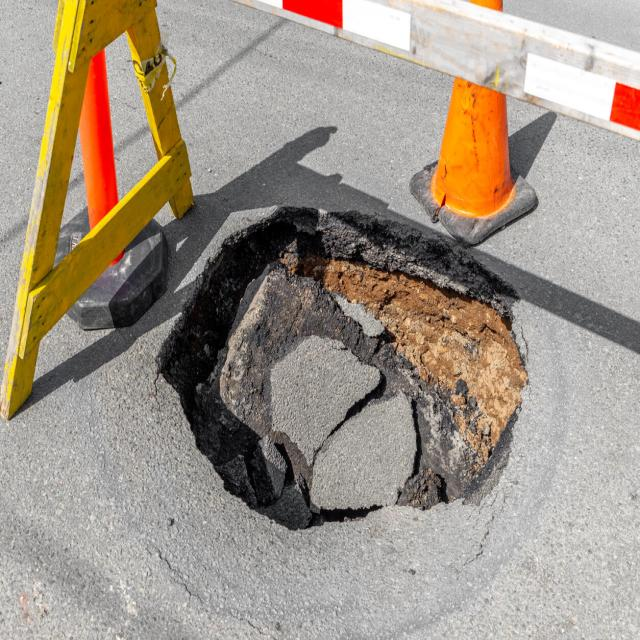Pothole: (158, 207, 529, 533)
